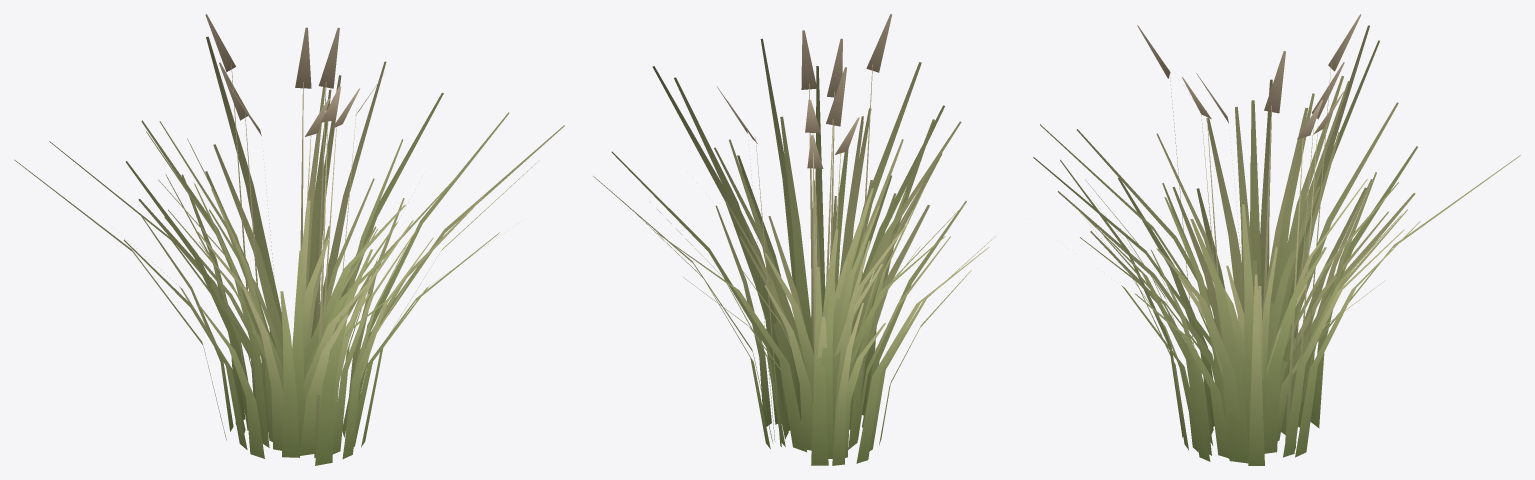
File: canna_1.glb
The picture shows the model from 3 angles, left to right: view 1: azimuth 30°, elevation 25°; view 2: azimuth 150°, elevation 25°; view 3: azimuth 270°, elevation 25°; orthographic projection. The views are drawn at different scales.
Parts seen in each view (by area): view 1: canna_1; view 2: canna_1; view 3: canna_1.
Part boxes in pixels (x1,y1,x2,y2): canna_1: [14, 14, 564, 465]; canna_1: [593, 14, 995, 465]; canna_1: [1033, 14, 1520, 465].
Size of the model in its own units: 3.76 by 3.18 by 3.51.
